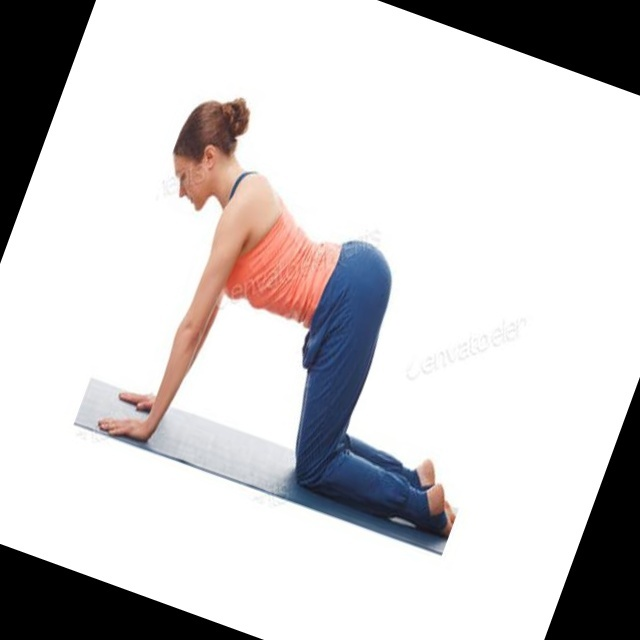Cow_Pose: (98, 101, 459, 541)
